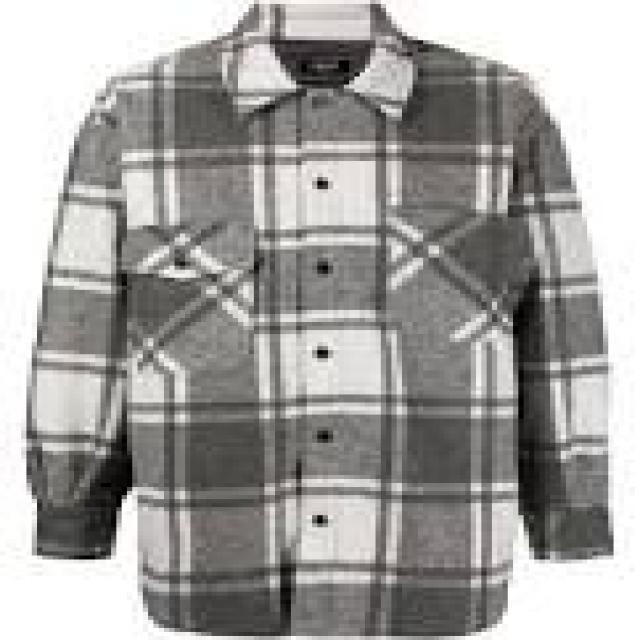plaid: (18, 9, 621, 635)
